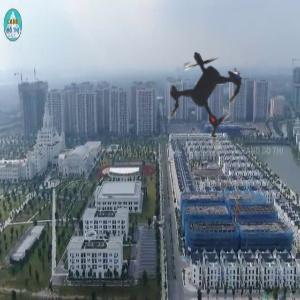drone: (117, 4, 290, 177)
